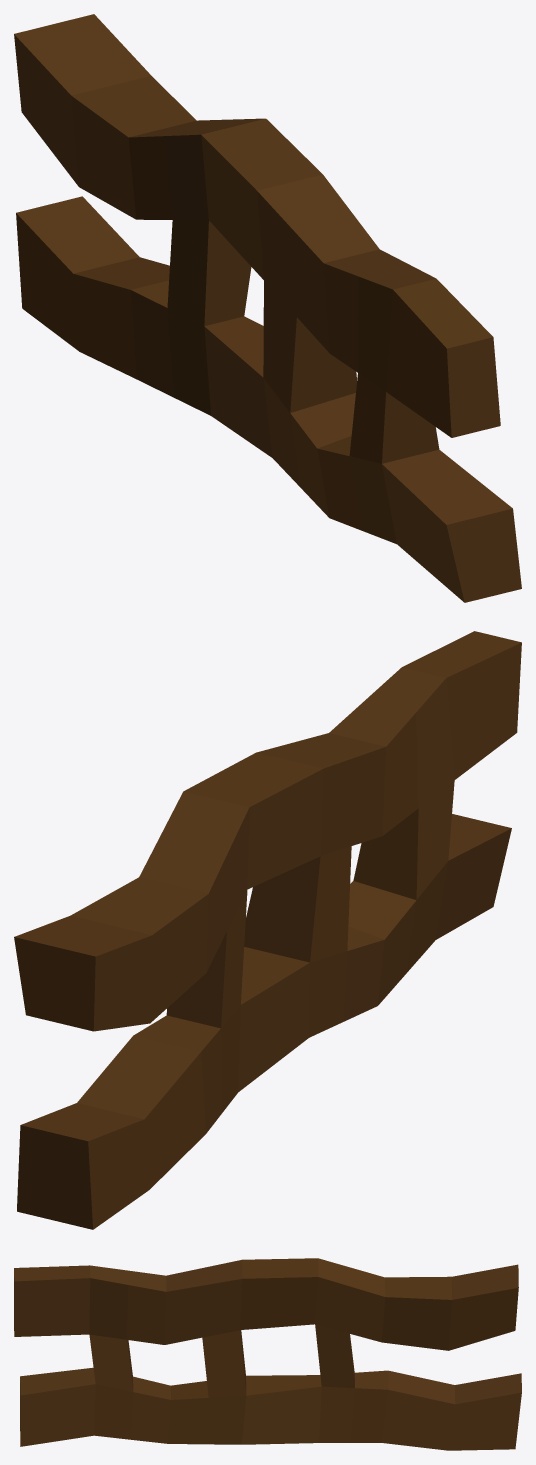
The model's file is gate.fbx.
3 renders of one model, top to bottom at view 1: azimuth 30°, elevation 25°; view 2: azimuth 150°, elevation 25°; view 3: azimuth 270°, elevation 25°, orthographic. The views are drawn at different scales.
Parts seen in each view (by area): view 1: fence_gate; view 2: fence_gate; view 3: fence_gate.
Part boxes in pixels (<box>): fence_gate: <box>14,14,521,602</box>; fence_gate: <box>14,631,521,1229</box>; fence_gate: <box>14,1258,521,1450</box>.
Size of the model in its own units: 34.07 by 98.98 by 262.
